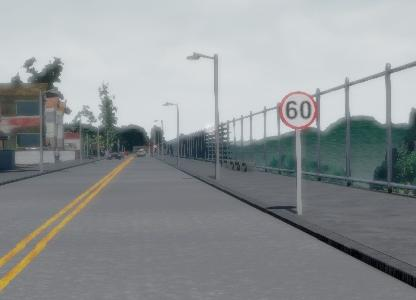Speed_60: (278, 91, 318, 131)
